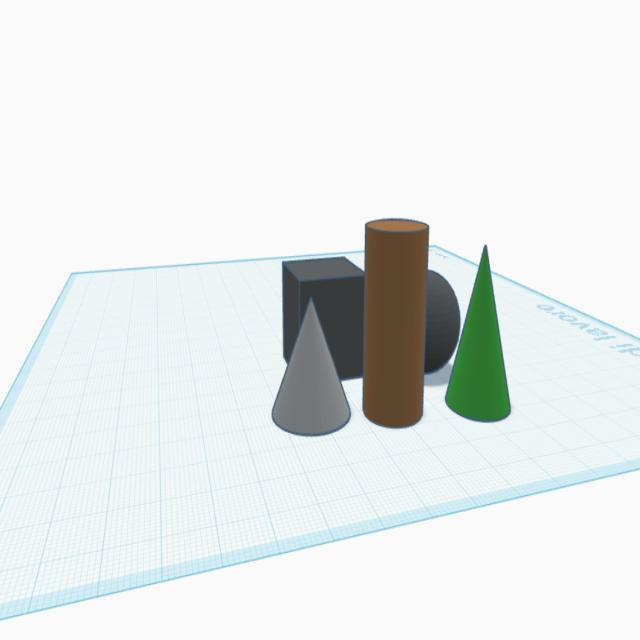cone: (444, 241, 514, 430), (270, 296, 354, 443)
